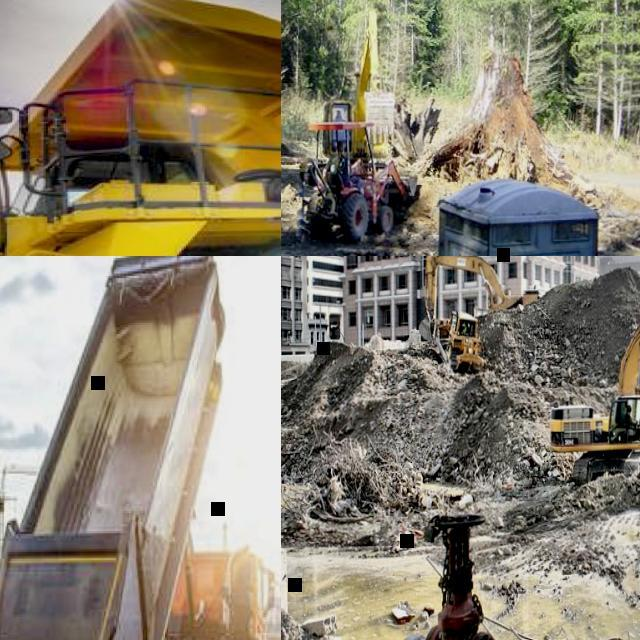vest: (336, 116, 344, 122), (462, 327, 468, 335)
